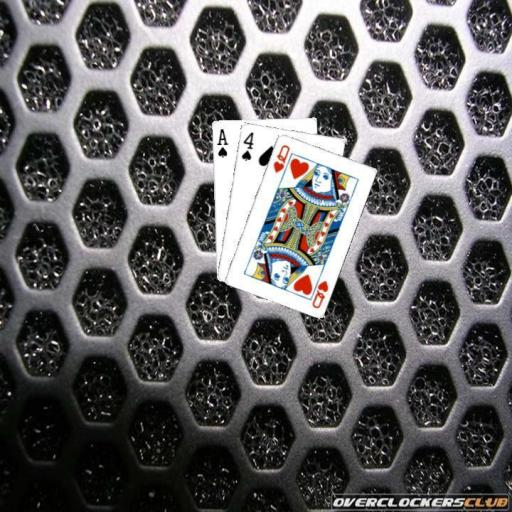card-corner: (306, 271, 330, 309), (270, 142, 291, 174), (238, 129, 255, 162), (213, 125, 229, 159)
